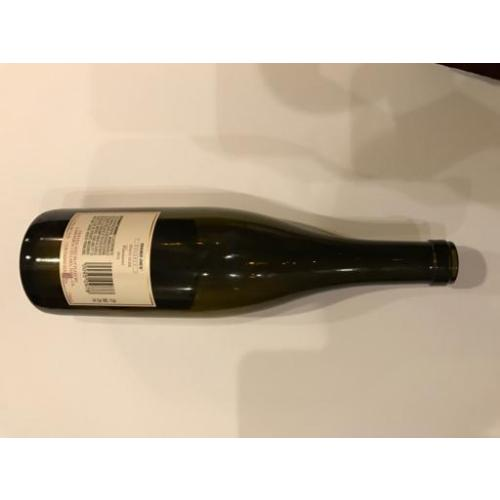glass: (21, 211, 461, 312)
